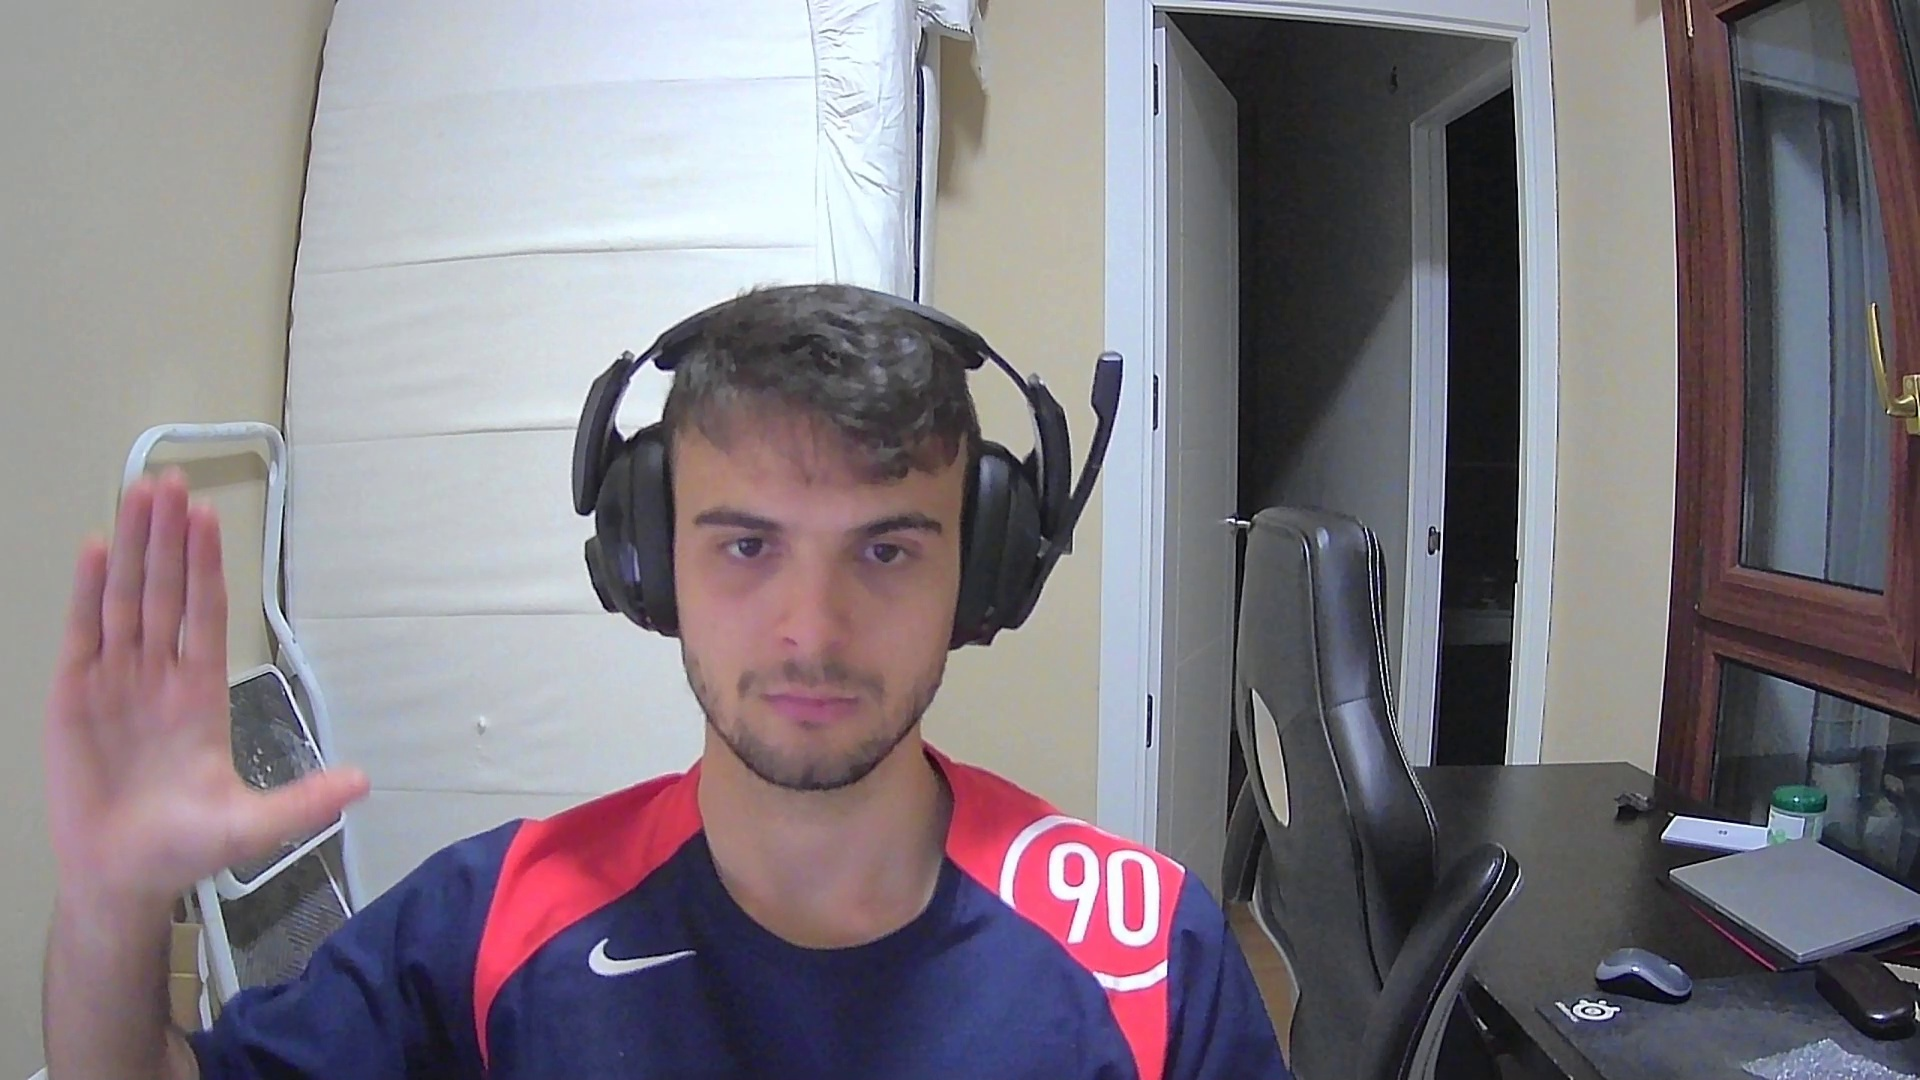Palm: (46, 467, 375, 878)
